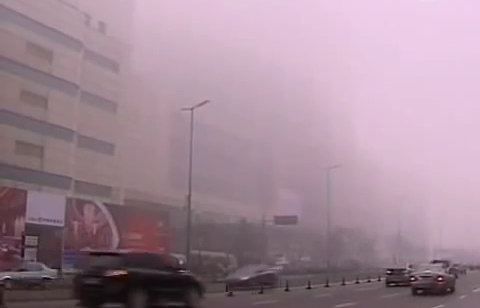car: (72, 248, 207, 308), (1, 262, 58, 292), (224, 266, 280, 290), (410, 267, 456, 295), (428, 259, 460, 282), (384, 265, 414, 286)
